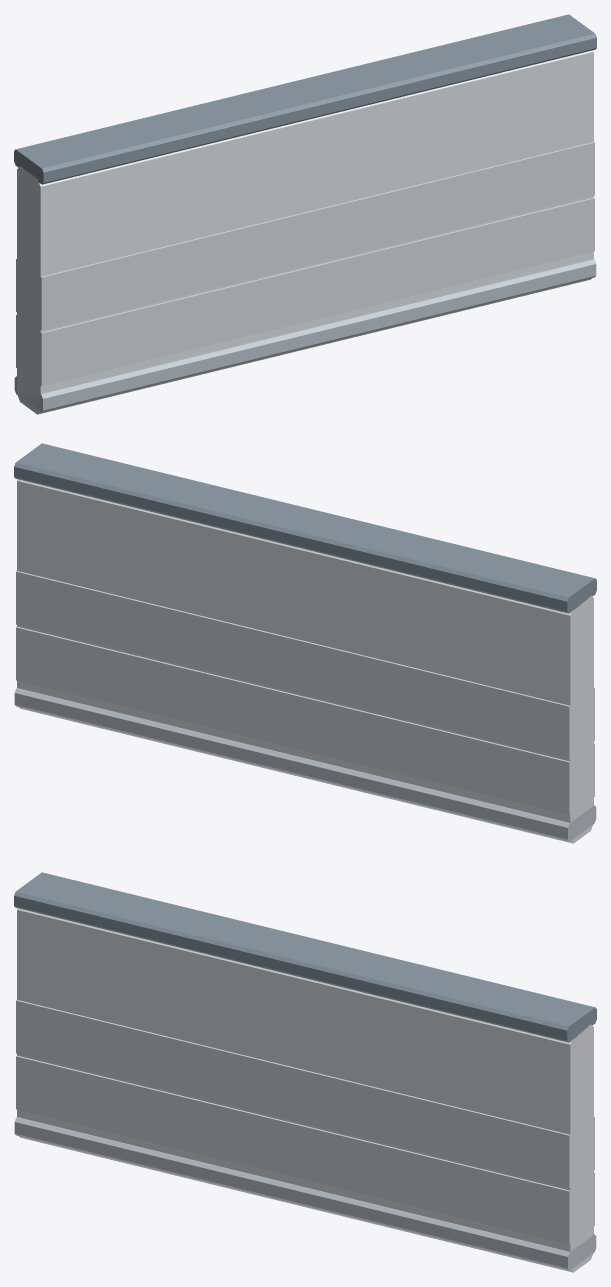
Rendered from wall_school_staff.glb.
3 views of the same model, one above another, from view 1: azimuth 30°, elevation 25°; view 2: azimuth 150°, elevation 25°; view 3: azimuth 330°, elevation 25° (orthographic).
Visible parts, largest first — view 1: Part_001, Part_005, Part_007, Part_002, Part_003; view 2: Part_001, Part_004, Part_006, Part_002, Part_003; view 3: Part_001, Part_005, Part_007, Part_002, Part_003.
Part boxes in pixels (bbox=[...]): Part_001: bbox=[17, 50, 593, 414]; Part_005: bbox=[40, 197, 594, 386]; Part_007: bbox=[40, 142, 594, 330]; Part_002: bbox=[14, 14, 596, 184]; Part_003: bbox=[14, 259, 596, 412]; Part_001: bbox=[17, 479, 593, 843]; Part_004: bbox=[16, 626, 570, 815]; Part_006: bbox=[16, 571, 570, 759]; Part_002: bbox=[14, 443, 596, 613]; Part_003: bbox=[14, 688, 596, 841]; Part_001: bbox=[17, 908, 593, 1272]; Part_005: bbox=[16, 1055, 570, 1244]; Part_007: bbox=[16, 1000, 570, 1188]; Part_002: bbox=[14, 872, 596, 1042]; Part_003: bbox=[14, 1117, 596, 1270].
Bounding box in the file's own units: 2.7 × 1.16 × 0.25.
